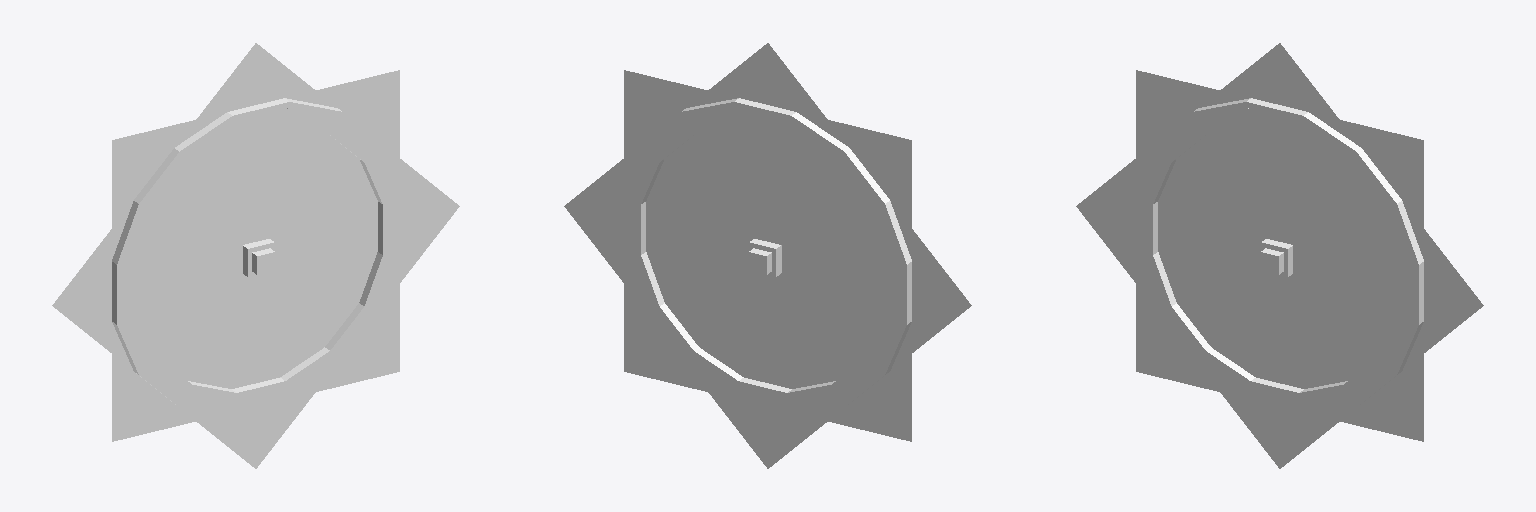
The model's file is spoked_wooden_wheel_2.obj.
3 views of the same model, side by side, from view 1: azimuth 30°, elevation 25°; view 2: azimuth 150°, elevation 25°; view 3: azimuth 330°, elevation 25° (orthographic).
Parts seen in each view (by area): view 1: medium_wheel.003, medium_wheel.000, medium_wheel.006, medium_wheel.004, medium_wheel.014, medium_wheel.012, medium_wheel.005, medium_wheel.008, medium_wheel.018, medium_wheel.016, medium_wheel.013, medium_wheel.010 (+7 smaller); view 2: medium_wheel.000, medium_wheel.003, medium_wheel.005, medium_wheel.013, medium_wheel.007, medium_wheel, medium_wheel.011, medium_wheel.015, medium_wheel.004, medium_wheel.006, medium_wheel.014, medium_wheel.012 (+8 smaller); view 3: medium_wheel.003, medium_wheel.000, medium_wheel.016, medium_wheel.018, medium_wheel.008, medium_wheel.010, medium_wheel.017, medium_wheel.014, medium_wheel.004, medium_wheel.006, medium_wheel.009, medium_wheel.012 (+7 smaller).
Boxes of the visible parts, <box> form: medium_wheel.003: <box>52,43,459,468</box>; medium_wheel.000: <box>112,70,399,441</box>; medium_wheel.006: <box>112,201,159,268</box>; medium_wheel.004: <box>175,112,240,170</box>; medium_wheel.014: <box>359,251,404,314</box>; medium_wheel.012: <box>280,347,342,402</box>; medium_wheel.005: <box>134,148,191,210</box>; medium_wheel.008: <box>112,311,159,374</box>; medium_wheel.018: <box>281,98,342,135</box>; medium_wheel.016: <box>360,145,404,207</box>; medium_wheel.013: <box>325,303,382,366</box>; medium_wheel.010: <box>180,381,240,417</box>; medium_wheel.000: <box>624,70,911,441</box>; medium_wheel.003: <box>564,43,971,468</box>; medium_wheel.005: <box>829,148,889,216</box>; medium_wheel.013: <box>641,303,698,367</box>; medium_wheel.007: <box>884,259,911,324</box>; medium_wheel: <box>734,98,795,138</box>; medium_wheel.011: <box>734,378,791,417</box>; medium_wheel.015: <box>619,195,645,259</box>; medium_wheel.004: <box>787,112,848,168</box>; medium_wheel.006: <box>867,201,911,264</box>; medium_wheel.014: <box>619,252,664,314</box>; medium_wheel.012: <box>682,347,743,402</box>; medium_wheel.003: <box>1076,43,1483,468</box>; medium_wheel.000: <box>1136,70,1423,441</box>; medium_wheel.016: <box>1376,201,1423,268</box>; medium_wheel.018: <box>1295,112,1360,170</box>; medium_wheel.008: <box>1131,251,1176,314</box>; medium_wheel.010: <box>1193,347,1255,402</box>; medium_wheel.017: <box>1344,148,1401,210</box>; medium_wheel.014: <box>1376,311,1423,374</box>; medium_wheel.004: <box>1193,98,1254,135</box>; medium_wheel.006: <box>1131,145,1175,207</box>; medium_wheel.009: <box>1153,303,1210,366</box>; medium_wheel.012: <box>1295,381,1355,417</box>.
Size of the model in its own units: 2.83 by 2.83 by 0.25.